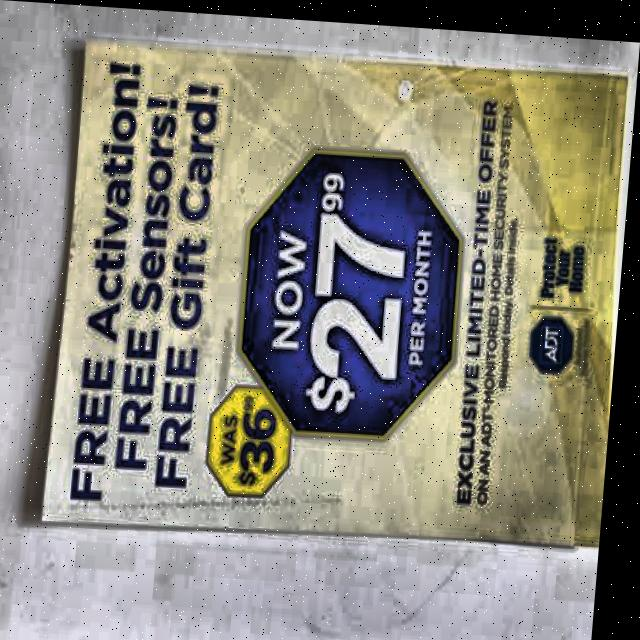paper: (43, 39, 637, 564)
